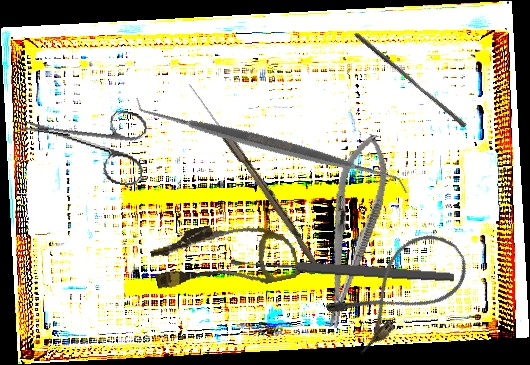Cannula: (322, 220, 478, 359), (147, 208, 301, 307)
Iris Scissors: (13, 90, 155, 189)
Needle Holder: (308, 129, 397, 333)
Pusher: (350, 31, 470, 129)
Spatula Surgical: (134, 10, 409, 281)
Surgical Spoon: (183, 81, 323, 266), (230, 255, 455, 284)
